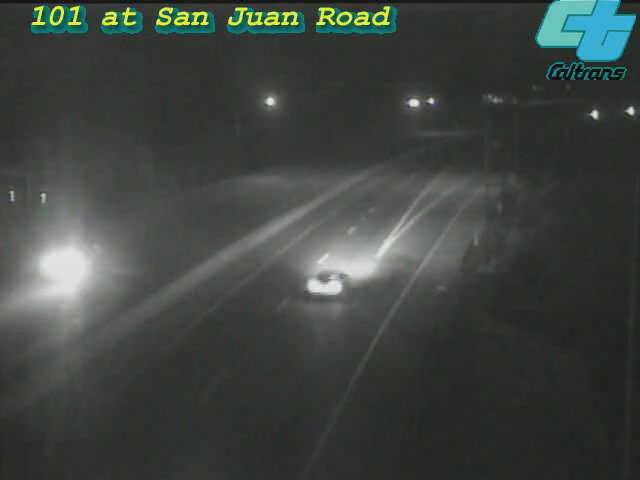vehicle: (24, 227, 104, 307), (284, 244, 364, 324), (568, 90, 618, 140), (604, 87, 640, 137)
